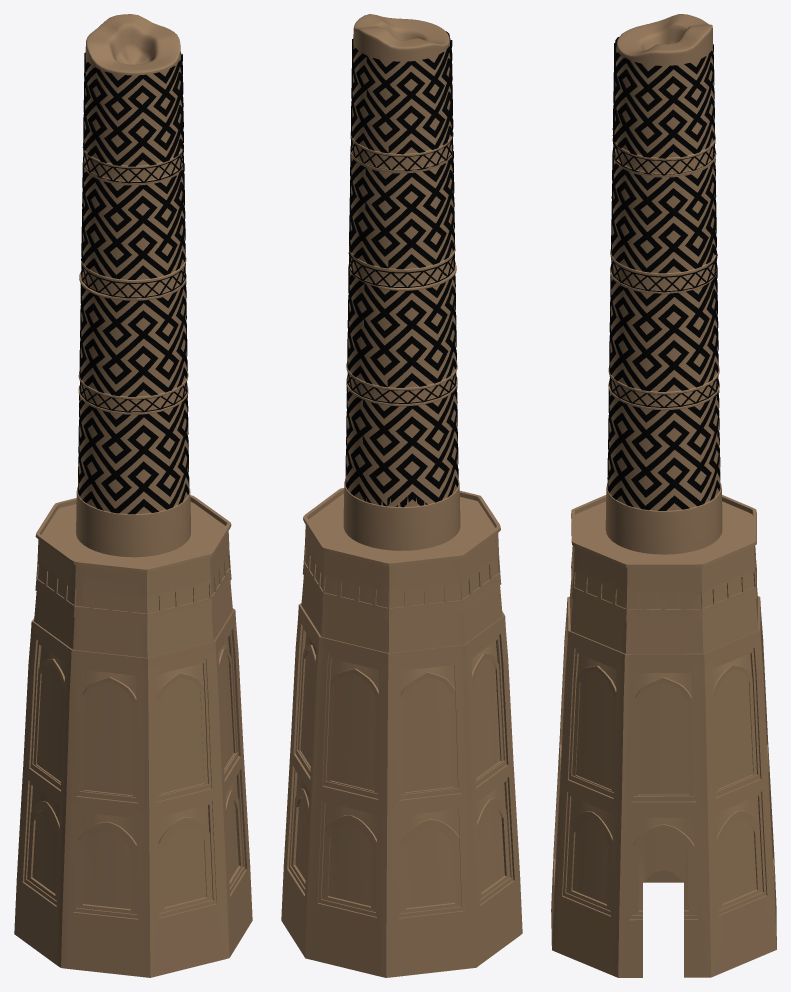
Rendered from building.glb.
3 views of the same model, side by side, from view 1: azimuth 30°, elevation 25°; view 2: azimuth 150°, elevation 25°; view 3: azimuth 270°, elevation 25° (orthographic).
Visible parts, largest first — view 1: Plane.029, polySurface37, polySurface29; view 2: Plane.029, polySurface37, polySurface29; view 3: Plane.029, polySurface37, polySurface29.
Boxes of the visible parts, bbox=[...] form: Plane.029: bbox=[14, 495, 252, 977]; polySurface37: bbox=[76, 14, 190, 557]; polySurface29: bbox=[78, 52, 189, 514]; Plane.029: bbox=[281, 488, 522, 977]; polySurface37: bbox=[343, 14, 460, 550]; polySurface29: bbox=[345, 31, 458, 507]; Plane.029: bbox=[551, 495, 776, 977]; polySurface37: bbox=[605, 14, 722, 554]; polySurface29: bbox=[607, 33, 720, 510].
Bounding box in the file's own units: 4.91 × 21.76 × 4.91.
2 materials, 1 textured.
